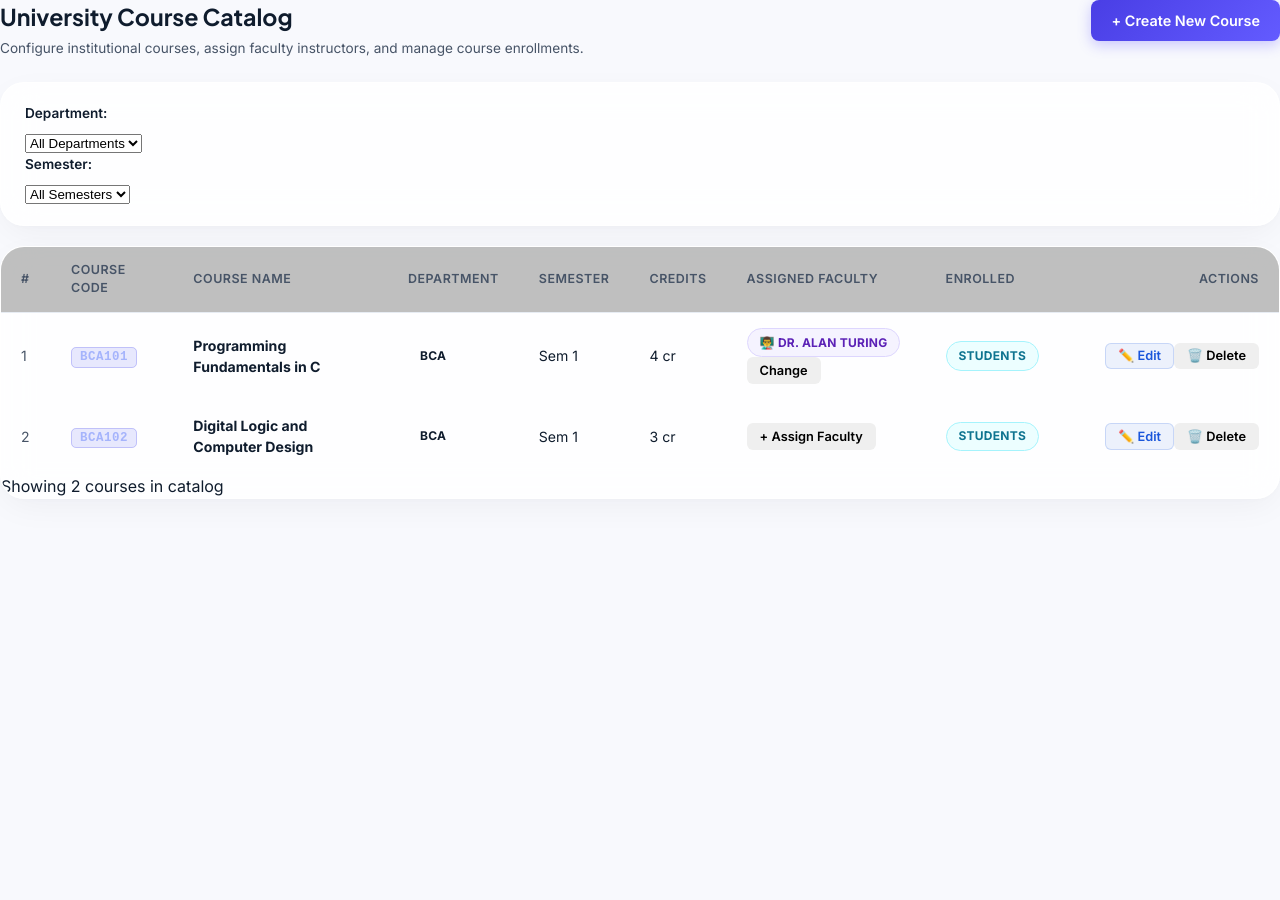
Admin Portal — Course Catalog Management Tests › opens Edit Course modal with pre-filled data, submits updates and refreshes
The image size is (1280, 900).
Check: the text "BCA101" is shown, box [71, 347, 137, 368]
Note: Click Edit button for BCA101
Click the button "✏️ Edit" in the row of "BCA101" at (1140, 356), box [1105, 342, 1174, 369]
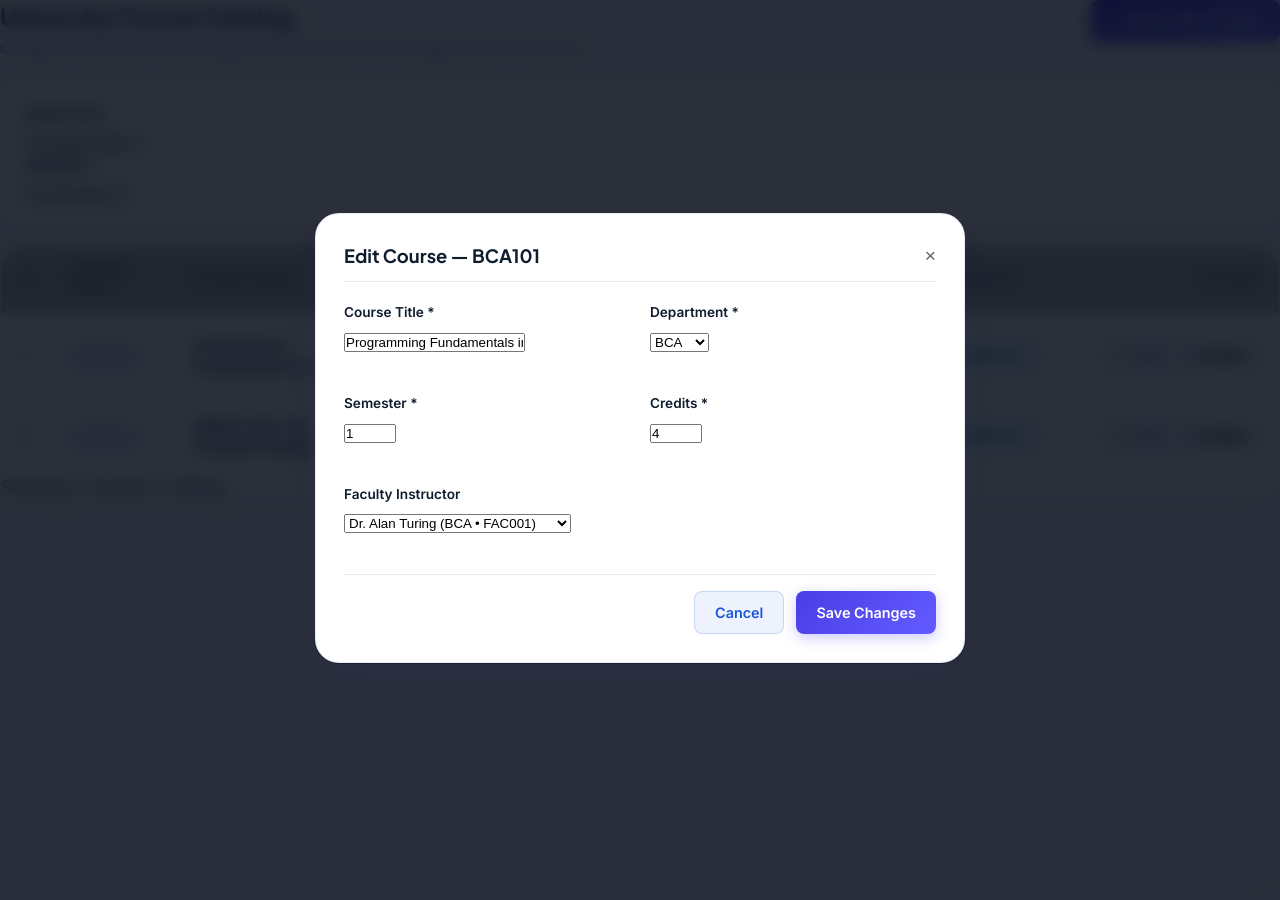
Check: the heading "Edit Course — BCA101" is shown, box [344, 242, 540, 269]
Check: the field labelled "Course Title *" holds "Programming Fundamentals in C"
Note: Update title
Replace the text in the field labelled "Course Title *" with "Advanced Programming in C and C++" at (434, 342), box [344, 333, 525, 352]
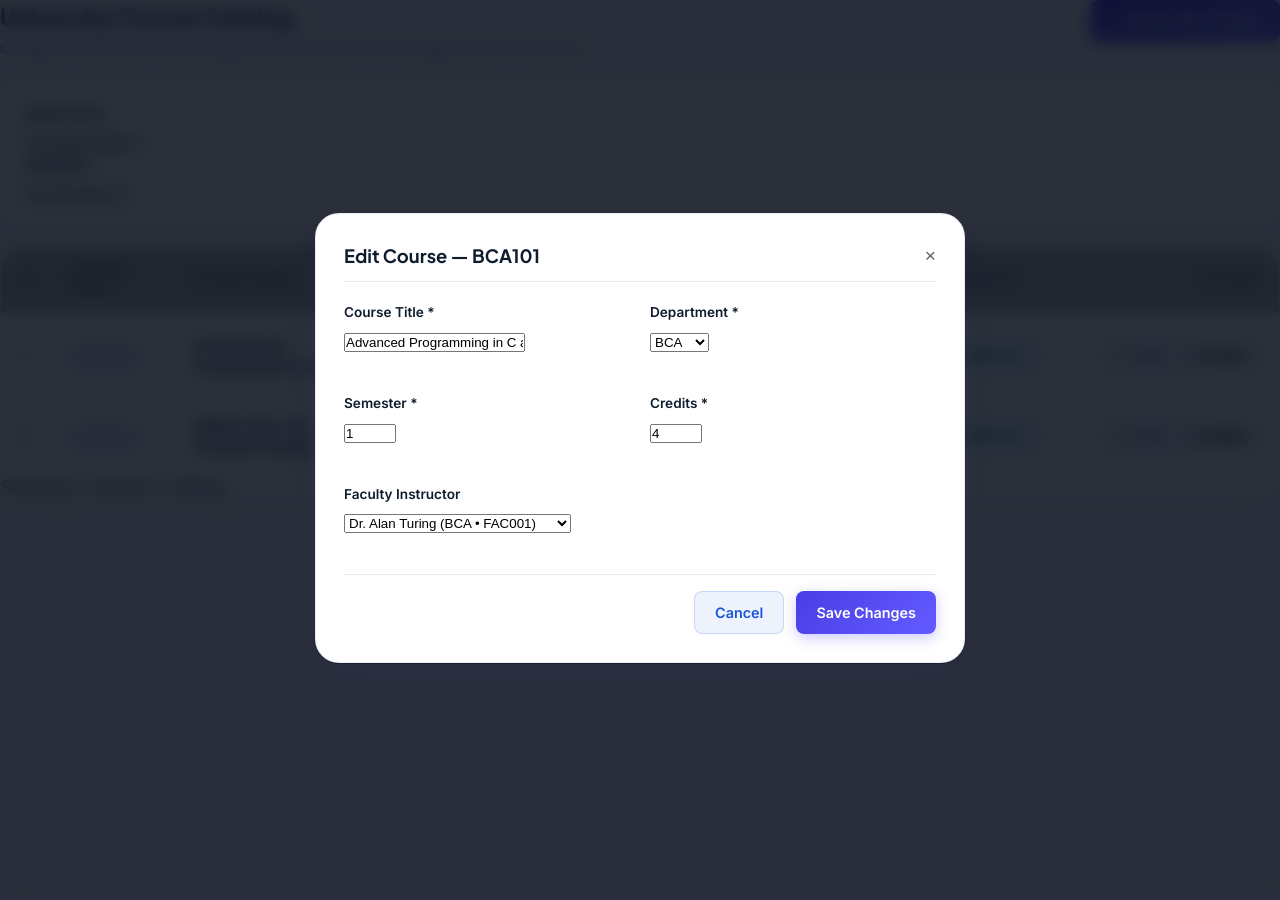
Click the button "Save Changes" at (866, 613), box [796, 592, 936, 634]
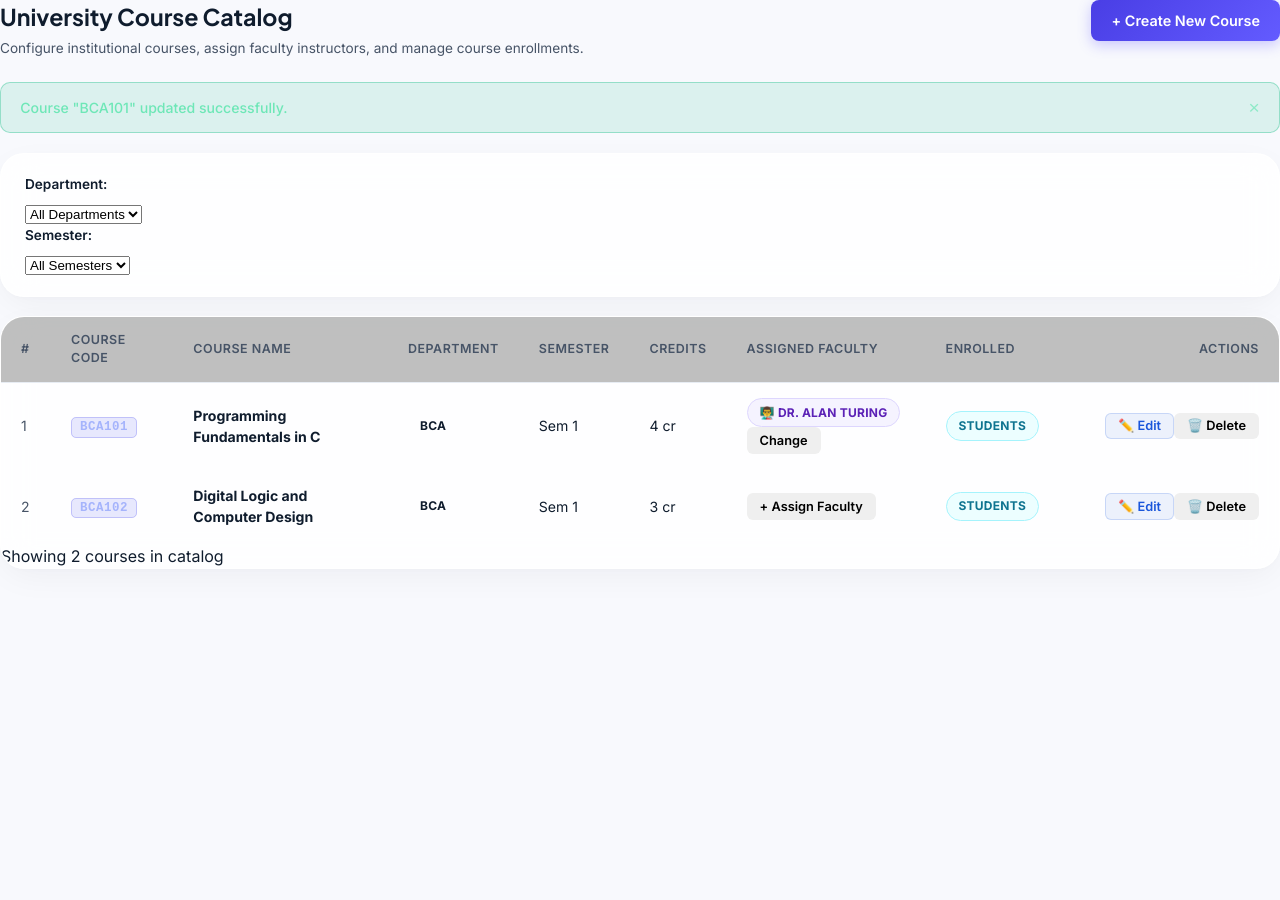
Check: the text "Course \"BCA101\" updated successfully." is shown, box [20, 97, 287, 118]
